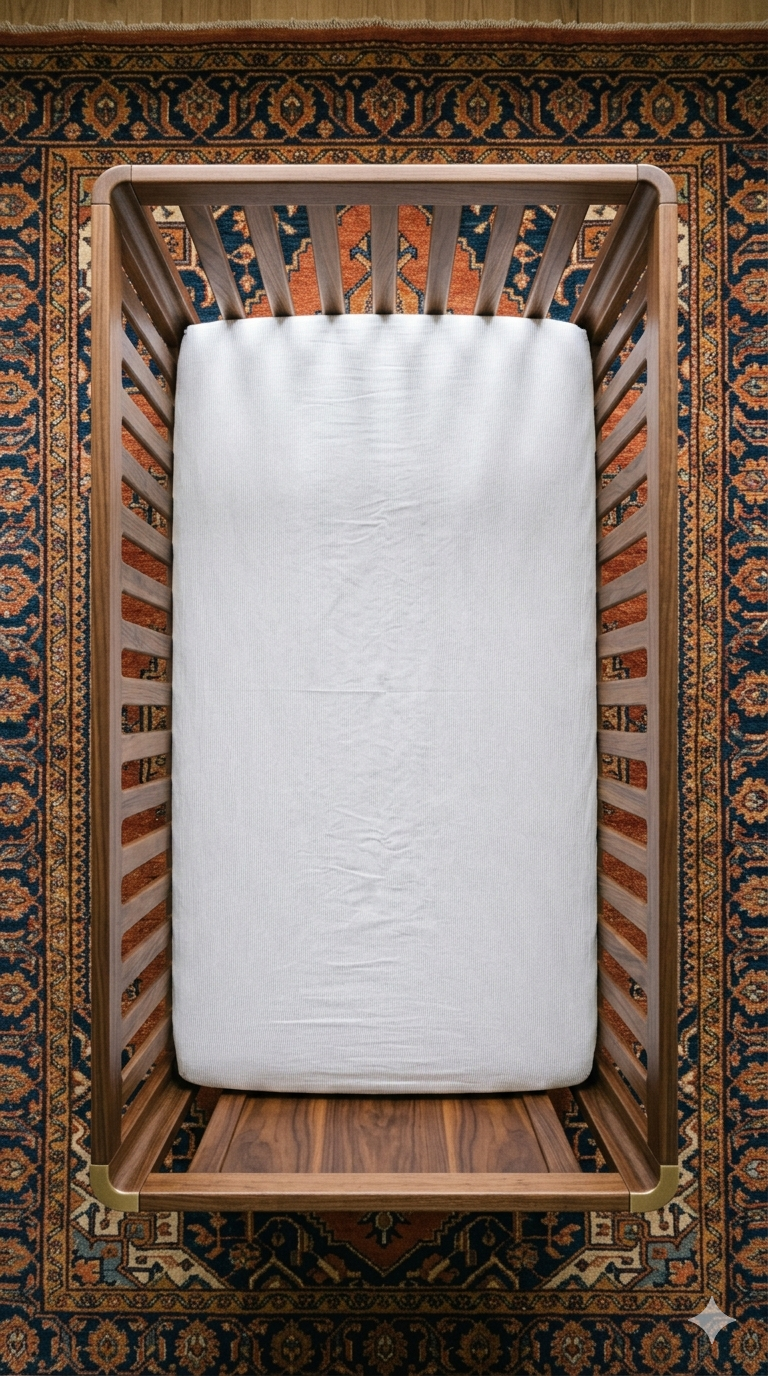crib: (152, 204, 616, 1173)
